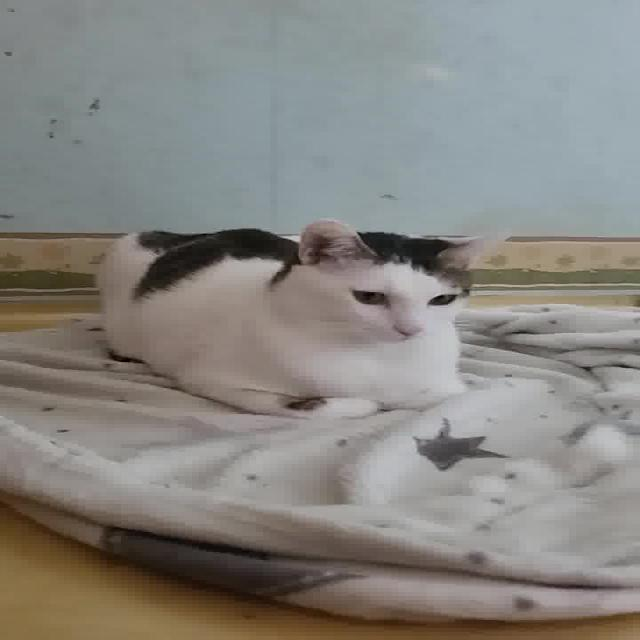cat: (90, 218, 511, 422)
